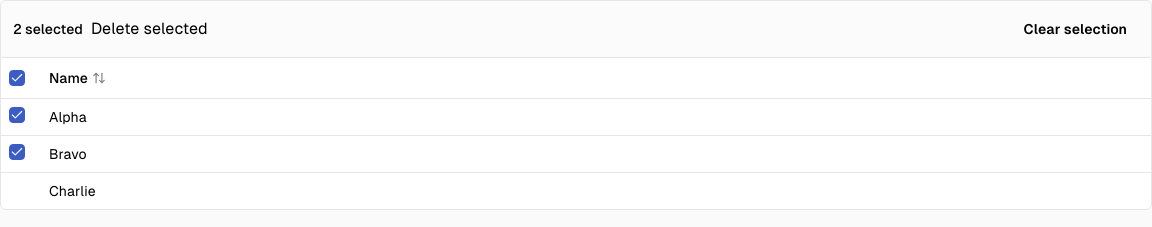
Scenario: IndexTable selection › Clear empties the selection
Click the button "Clear selection" at (1075, 29), box [1012,9,1139,49]
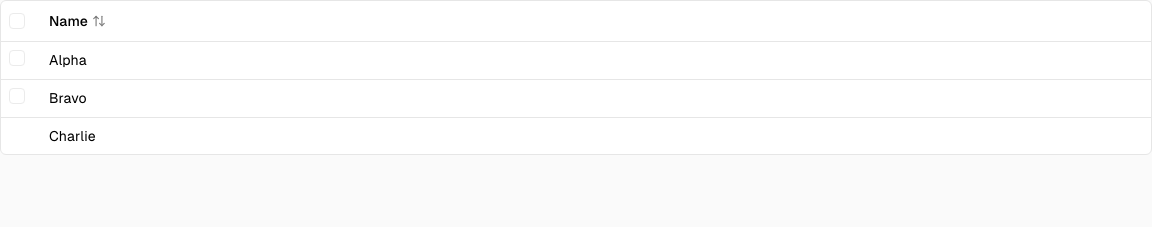
Expected: the text "selected" is gone
